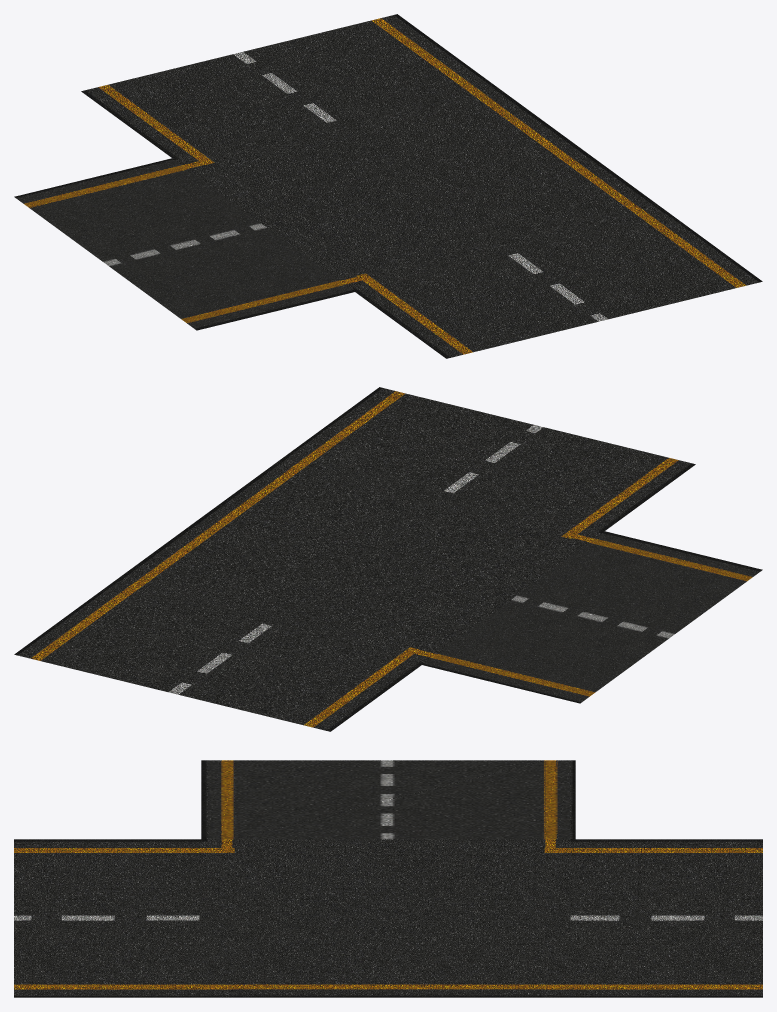
Rendered from 3way.fbx.
3 views of the same model, one above another, from view 1: azimuth 30°, elevation 25°; view 2: azimuth 150°, elevation 25°; view 3: azimuth 270°, elevation 25° (orthographic). The views are drawn at different scales.
Visible parts, largest first — view 1: 3way; view 2: 3way; view 3: 3way.
Boxes of the visible parts, left/top/right/bottom form: 3way: left=14, top=14, right=762, bottom=358; 3way: left=14, top=387, right=762, bottom=731; 3way: left=14, top=760, right=762, bottom=997.
Bounding box in the file's own units: 150 × 4.01e-05 × 200.
Materials: 1 (1 with a texture image).
